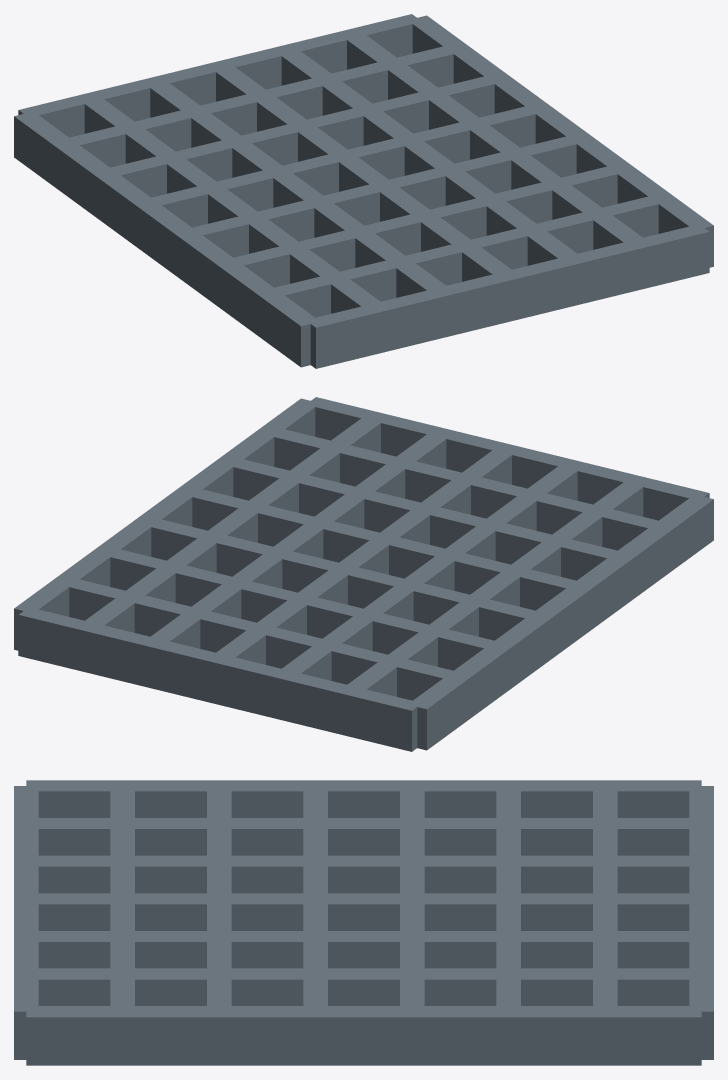
Rendered from falcon9_grid_fin_deployed.glb.
3 views of the same model, one above another, from view 1: azimuth 30°, elevation 25°; view 2: azimuth 150°, elevation 25°; view 3: azimuth 270°, elevation 25° (orthographic). The views are drawn at different scales.
Visible parts, largest first — view 1: falcon9_interstagegrid_fin_01mesh_Machined_steel; view 2: falcon9_interstagegrid_fin_01mesh_Machined_steel; view 3: falcon9_interstagegrid_fin_01mesh_Machined_steel.
Part boxes in pixels (x1=…): falcon9_interstagegrid_fin_01mesh_Machined_steel: x1=14, y1=14, x2=713, y2=368; falcon9_interstagegrid_fin_01mesh_Machined_steel: x1=14, y1=397, x2=713, y2=751; falcon9_interstagegrid_fin_01mesh_Machined_steel: x1=14, y1=780, x2=713, y2=1065.
Size of the model in its own units: 0.955 by 0.091 by 1.19.
